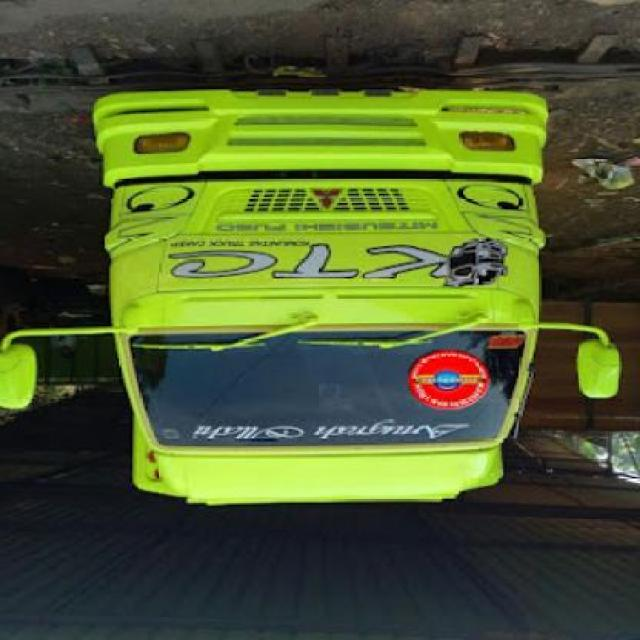truck: (4, 92, 621, 518)
